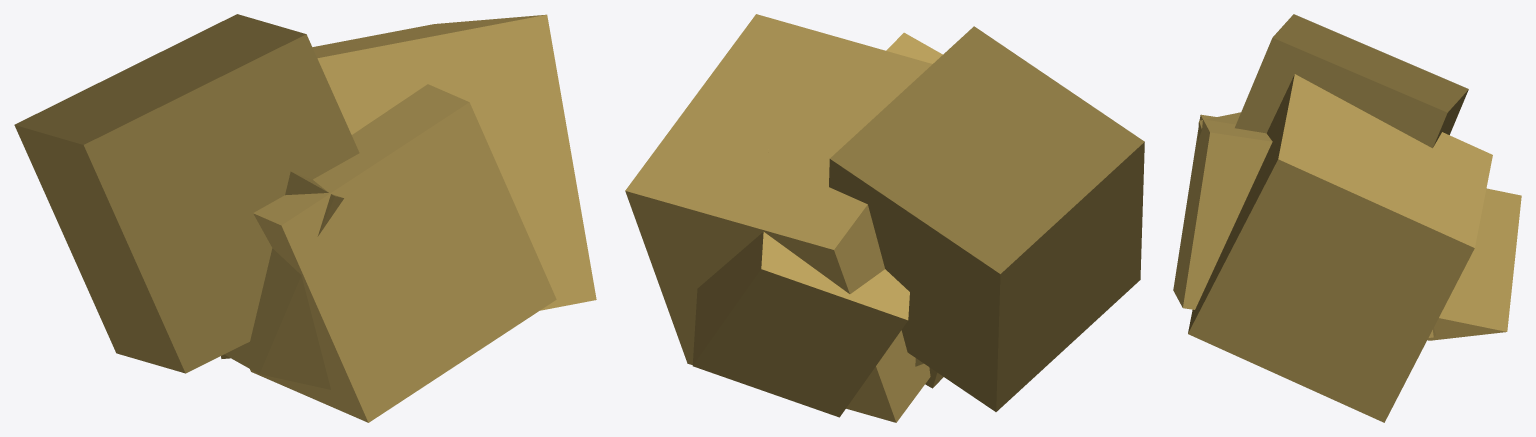
The model's file is pyrite.glb.
The picture shows the model from 3 angles, left to right: view 1: azimuth 30°, elevation 25°; view 2: azimuth 150°, elevation 25°; view 3: azimuth 270°, elevation 25°; orthographic projection. The views are drawn at different scales.
Visible parts, largest first — view 1: pyrite cube.001, pyrite cube, pyrite cube.004, pyrite cube.003; view 2: pyrite cube.001, pyrite cube.004, pyrite cube.002, pyrite cube; view 3: pyrite cube.004, pyrite cube.001, pyrite cube, pyrite cube.002.
Boxes of the visible parts, bbox=[...] form: pyrite cube.001: bbox=[14, 14, 359, 373]; pyrite cube: bbox=[250, 84, 556, 422]; pyrite cube.004: bbox=[221, 14, 596, 358]; pyrite cube.003: bbox=[224, 171, 343, 389]; pyrite cube.001: bbox=[829, 26, 1144, 411]; pyrite cube.004: bbox=[625, 14, 932, 422]; pyrite cube.002: bbox=[692, 152, 909, 417]; pyrite cube: bbox=[886, 32, 943, 388]; pyrite cube.004: bbox=[1188, 74, 1492, 422]; pyrite cube.001: bbox=[1235, 14, 1468, 148]; pyrite cube: bbox=[1173, 114, 1272, 309]; pyrite cube.002: bbox=[1427, 188, 1521, 340].
Size of the model in its own units: 0.195 by 0.1547 by 0.1666.
